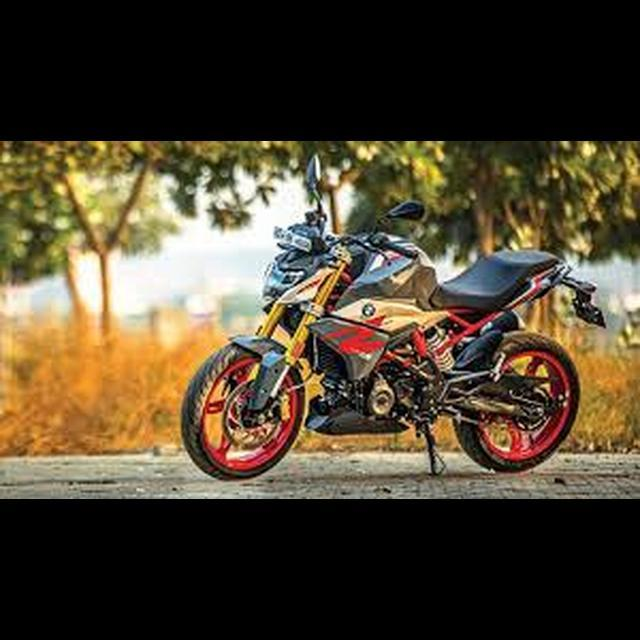motorcycle: (179, 147, 611, 481)
